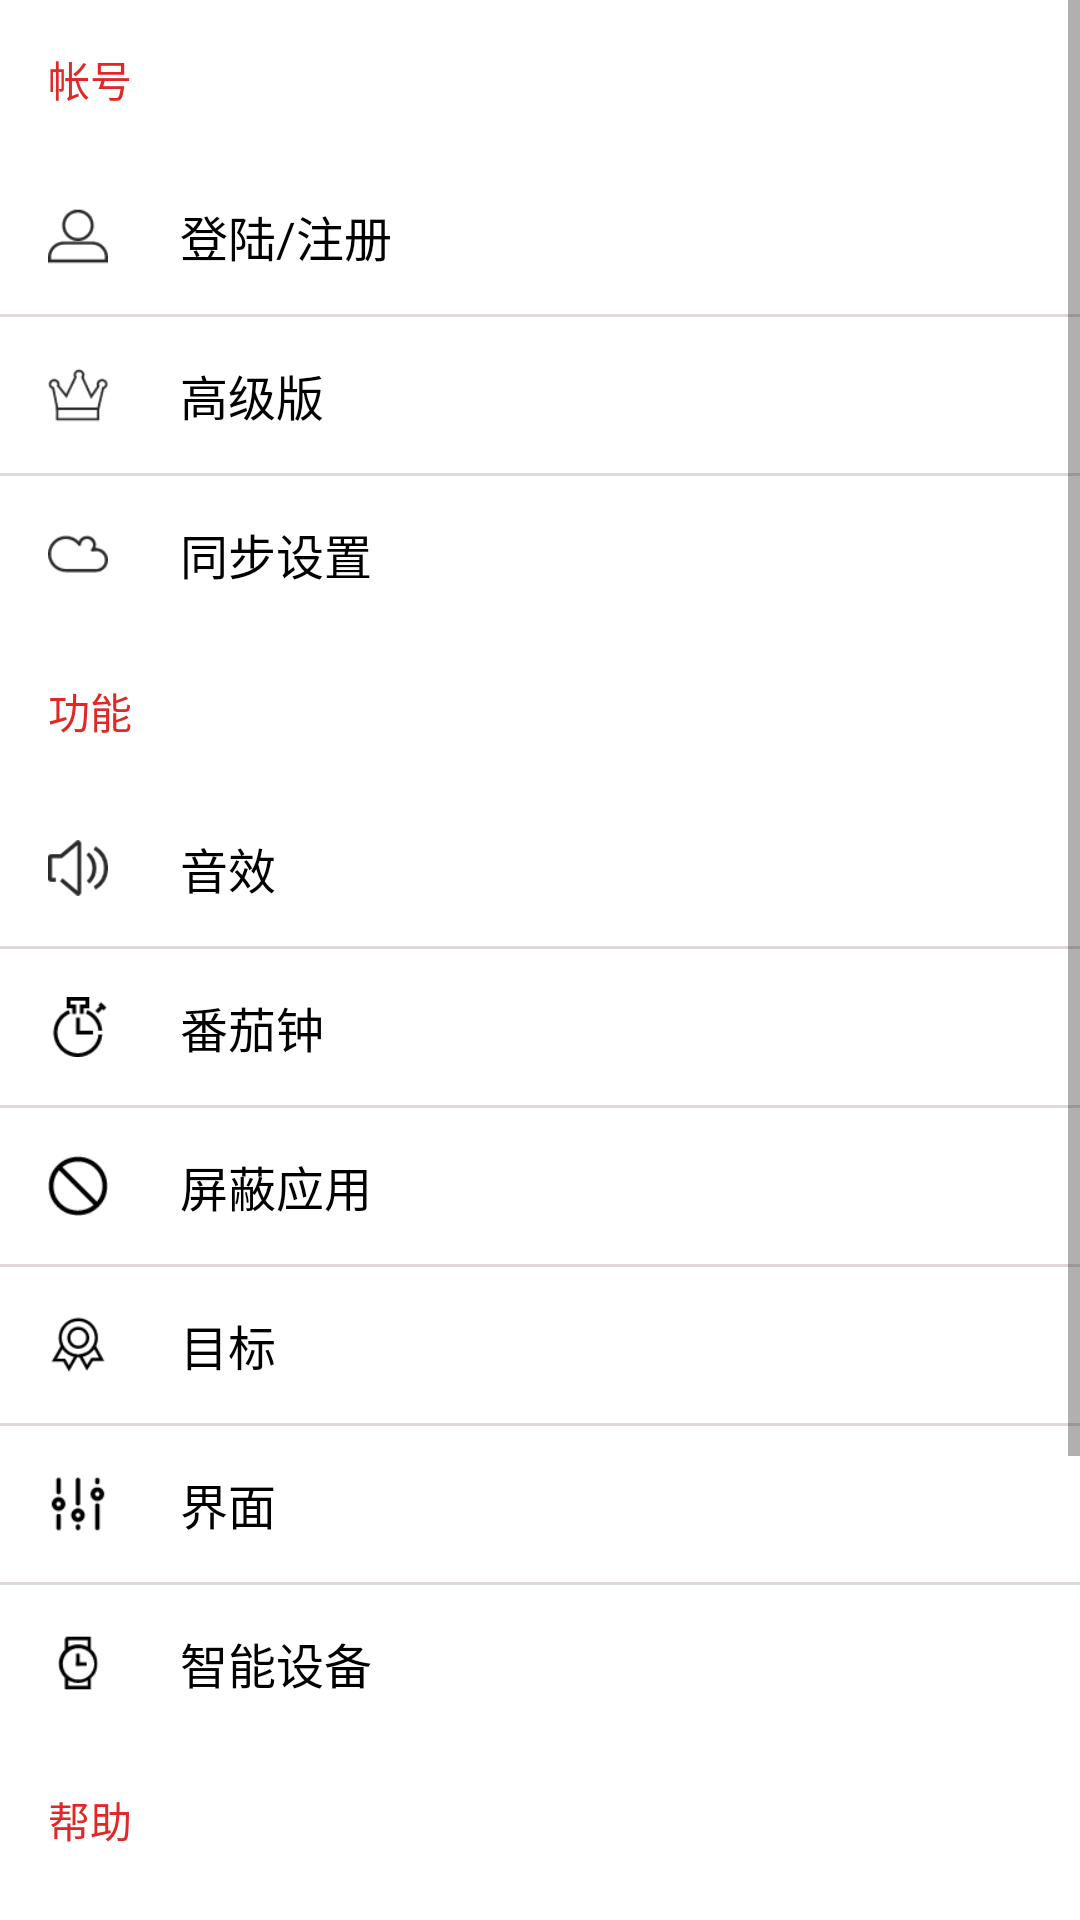

Icons on this 1080x1920 Android screen, each with the point to tap as (x,y):
cloud: (78,554)
control: (78,1504)
count time: (80,1027)
king: (78,395)
sound: (78,868)
user: (78,236)
watch: (78,1663)
